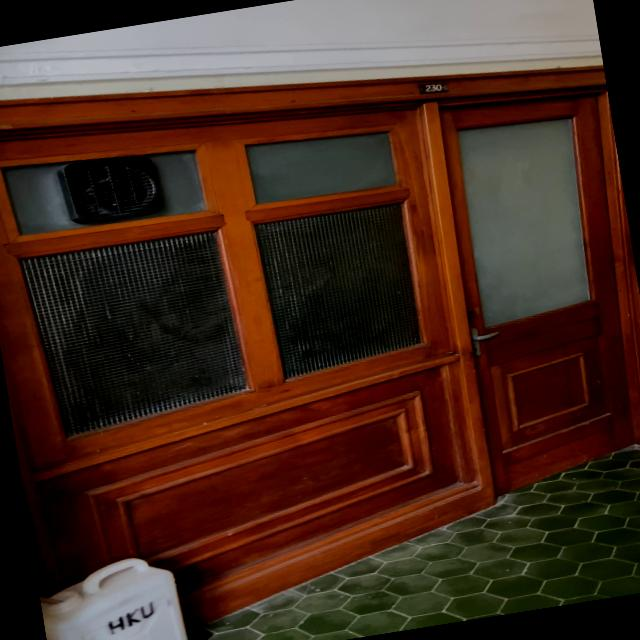room230: (417, 80, 450, 97)
